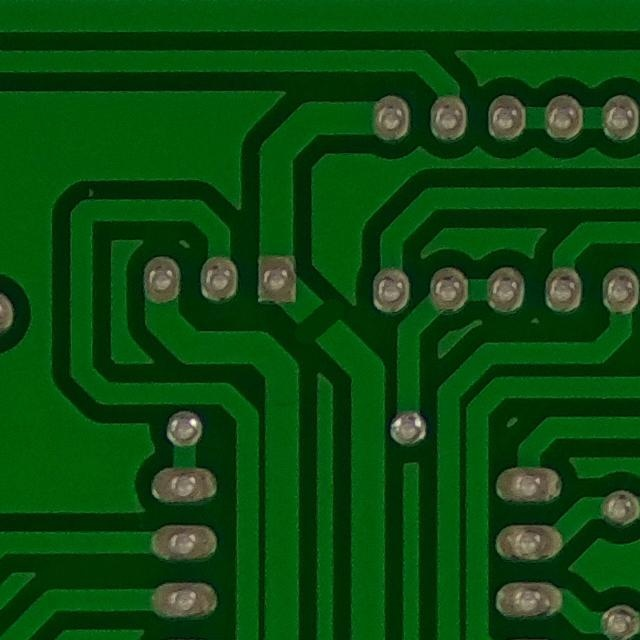open_circuit: (289, 292, 351, 348)
